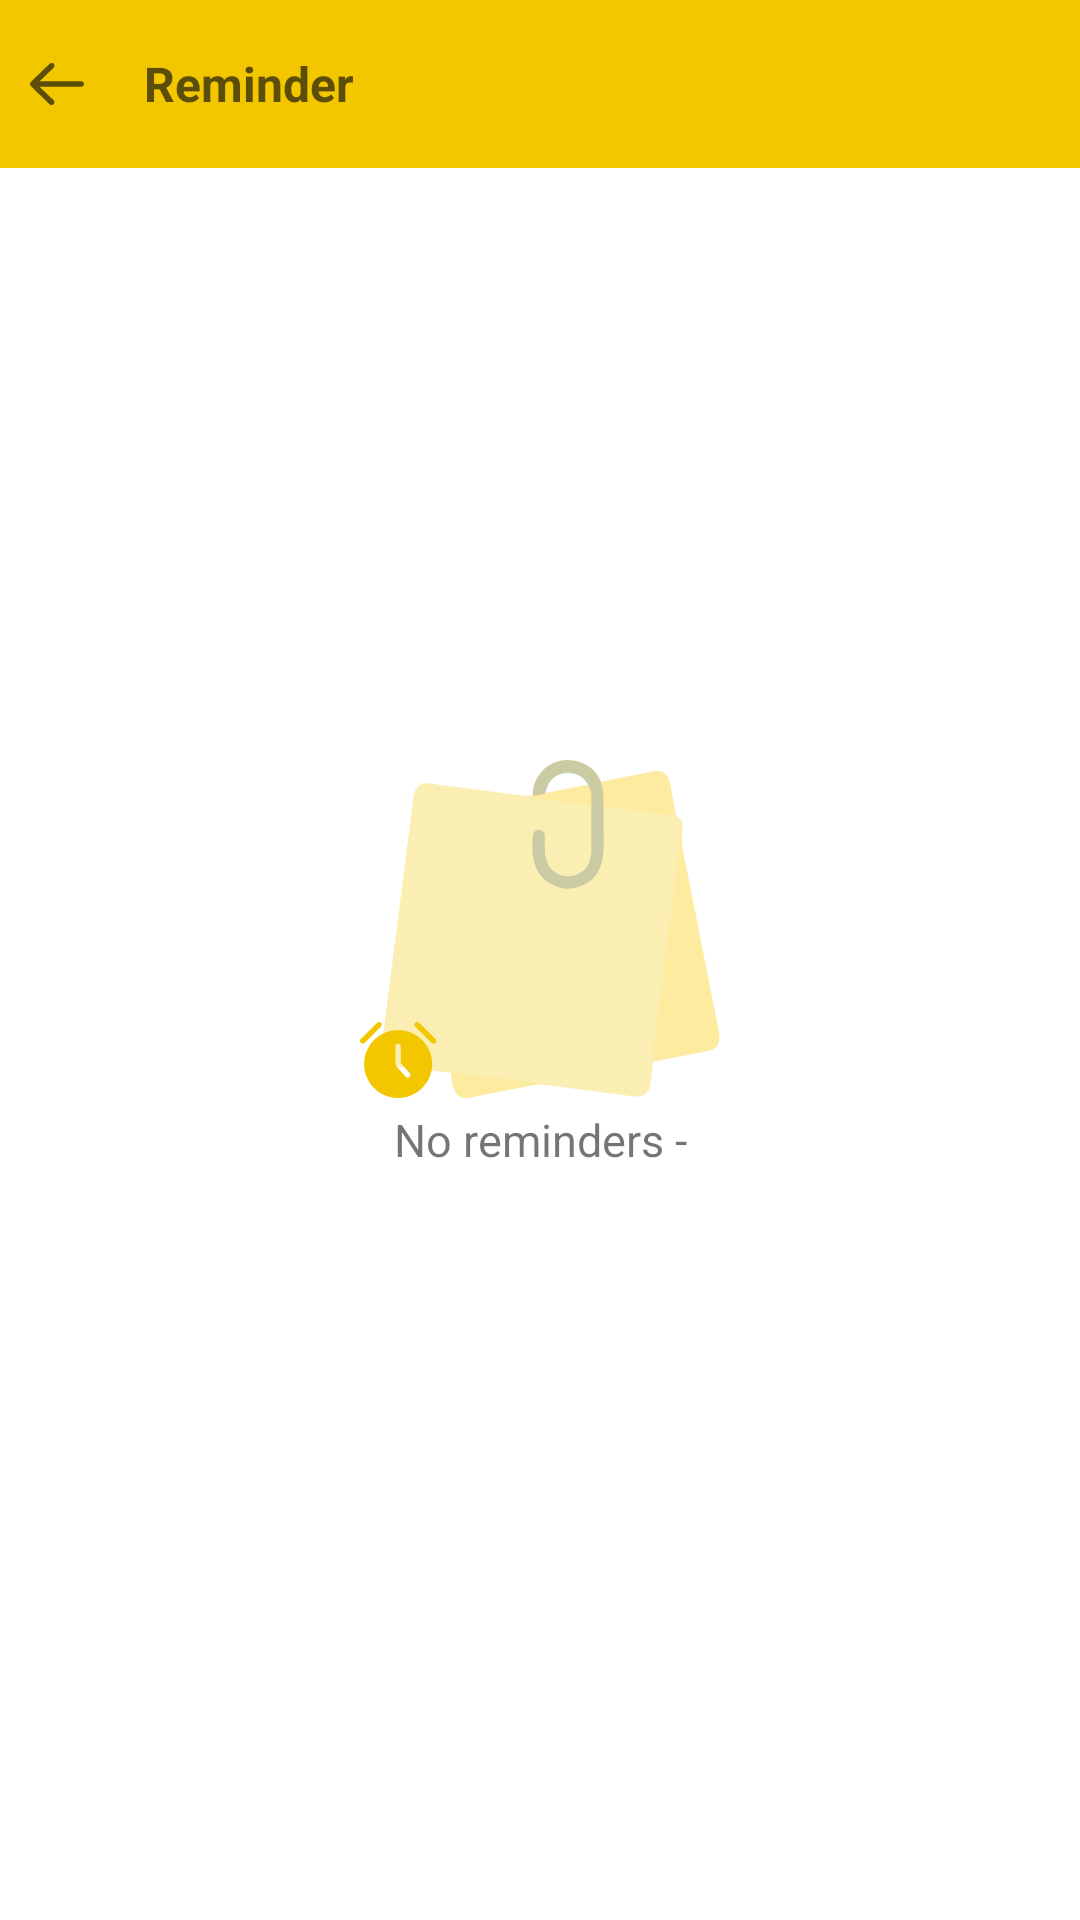

Where to tap for icons on this 1080 x 1920 app screen, as (x,y):
back: (57,84)
reminderscreen: (540,929)
